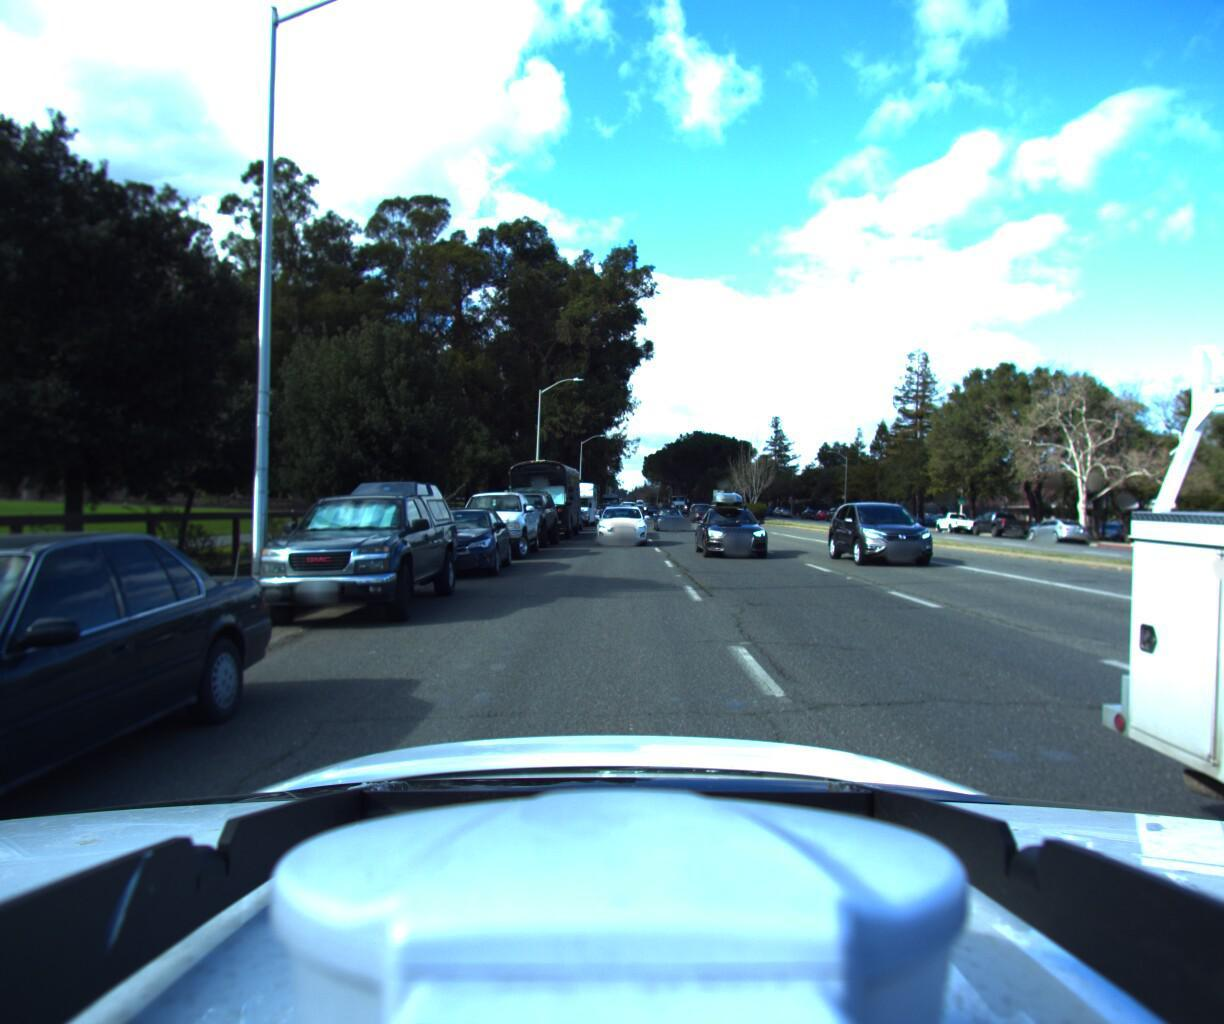bus: (502, 457, 582, 543)
car: (0, 520, 283, 1024), (237, 469, 463, 638), (836, 495, 965, 575), (397, 504, 513, 585), (449, 486, 541, 564), (694, 483, 783, 563), (484, 489, 557, 550), (591, 501, 645, 546), (1022, 515, 1090, 544), (967, 508, 1030, 540), (933, 509, 979, 535), (653, 505, 688, 532), (689, 504, 716, 523)
other_vehicle: (551, 478, 597, 529)
